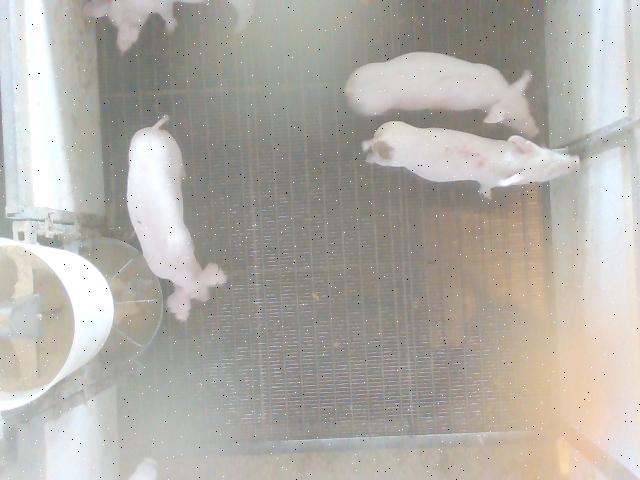pig-5: (362, 121, 579, 197)
